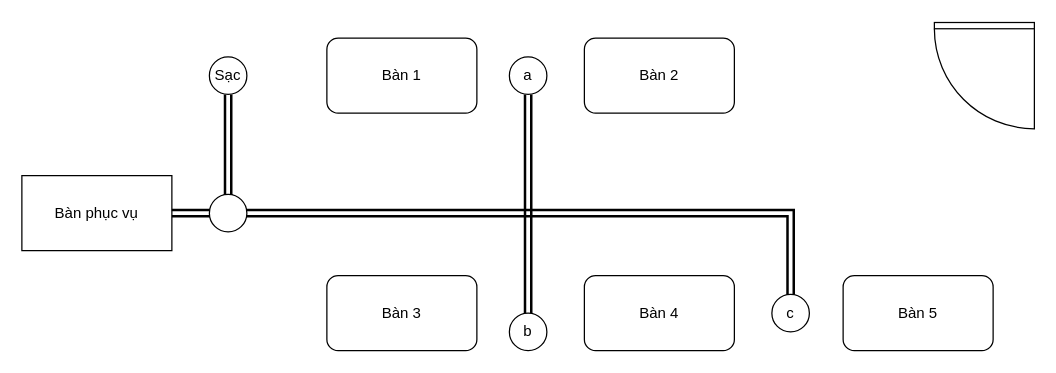
Some shapes in this 1056 by 373 pixel diagram are drawn without their labels. The shapes that lost their labels are listed below. From the top down, each one's centre as x and y in pixels, then its label:
the point at 983,75: Cửa
the point at 227,212: Start
